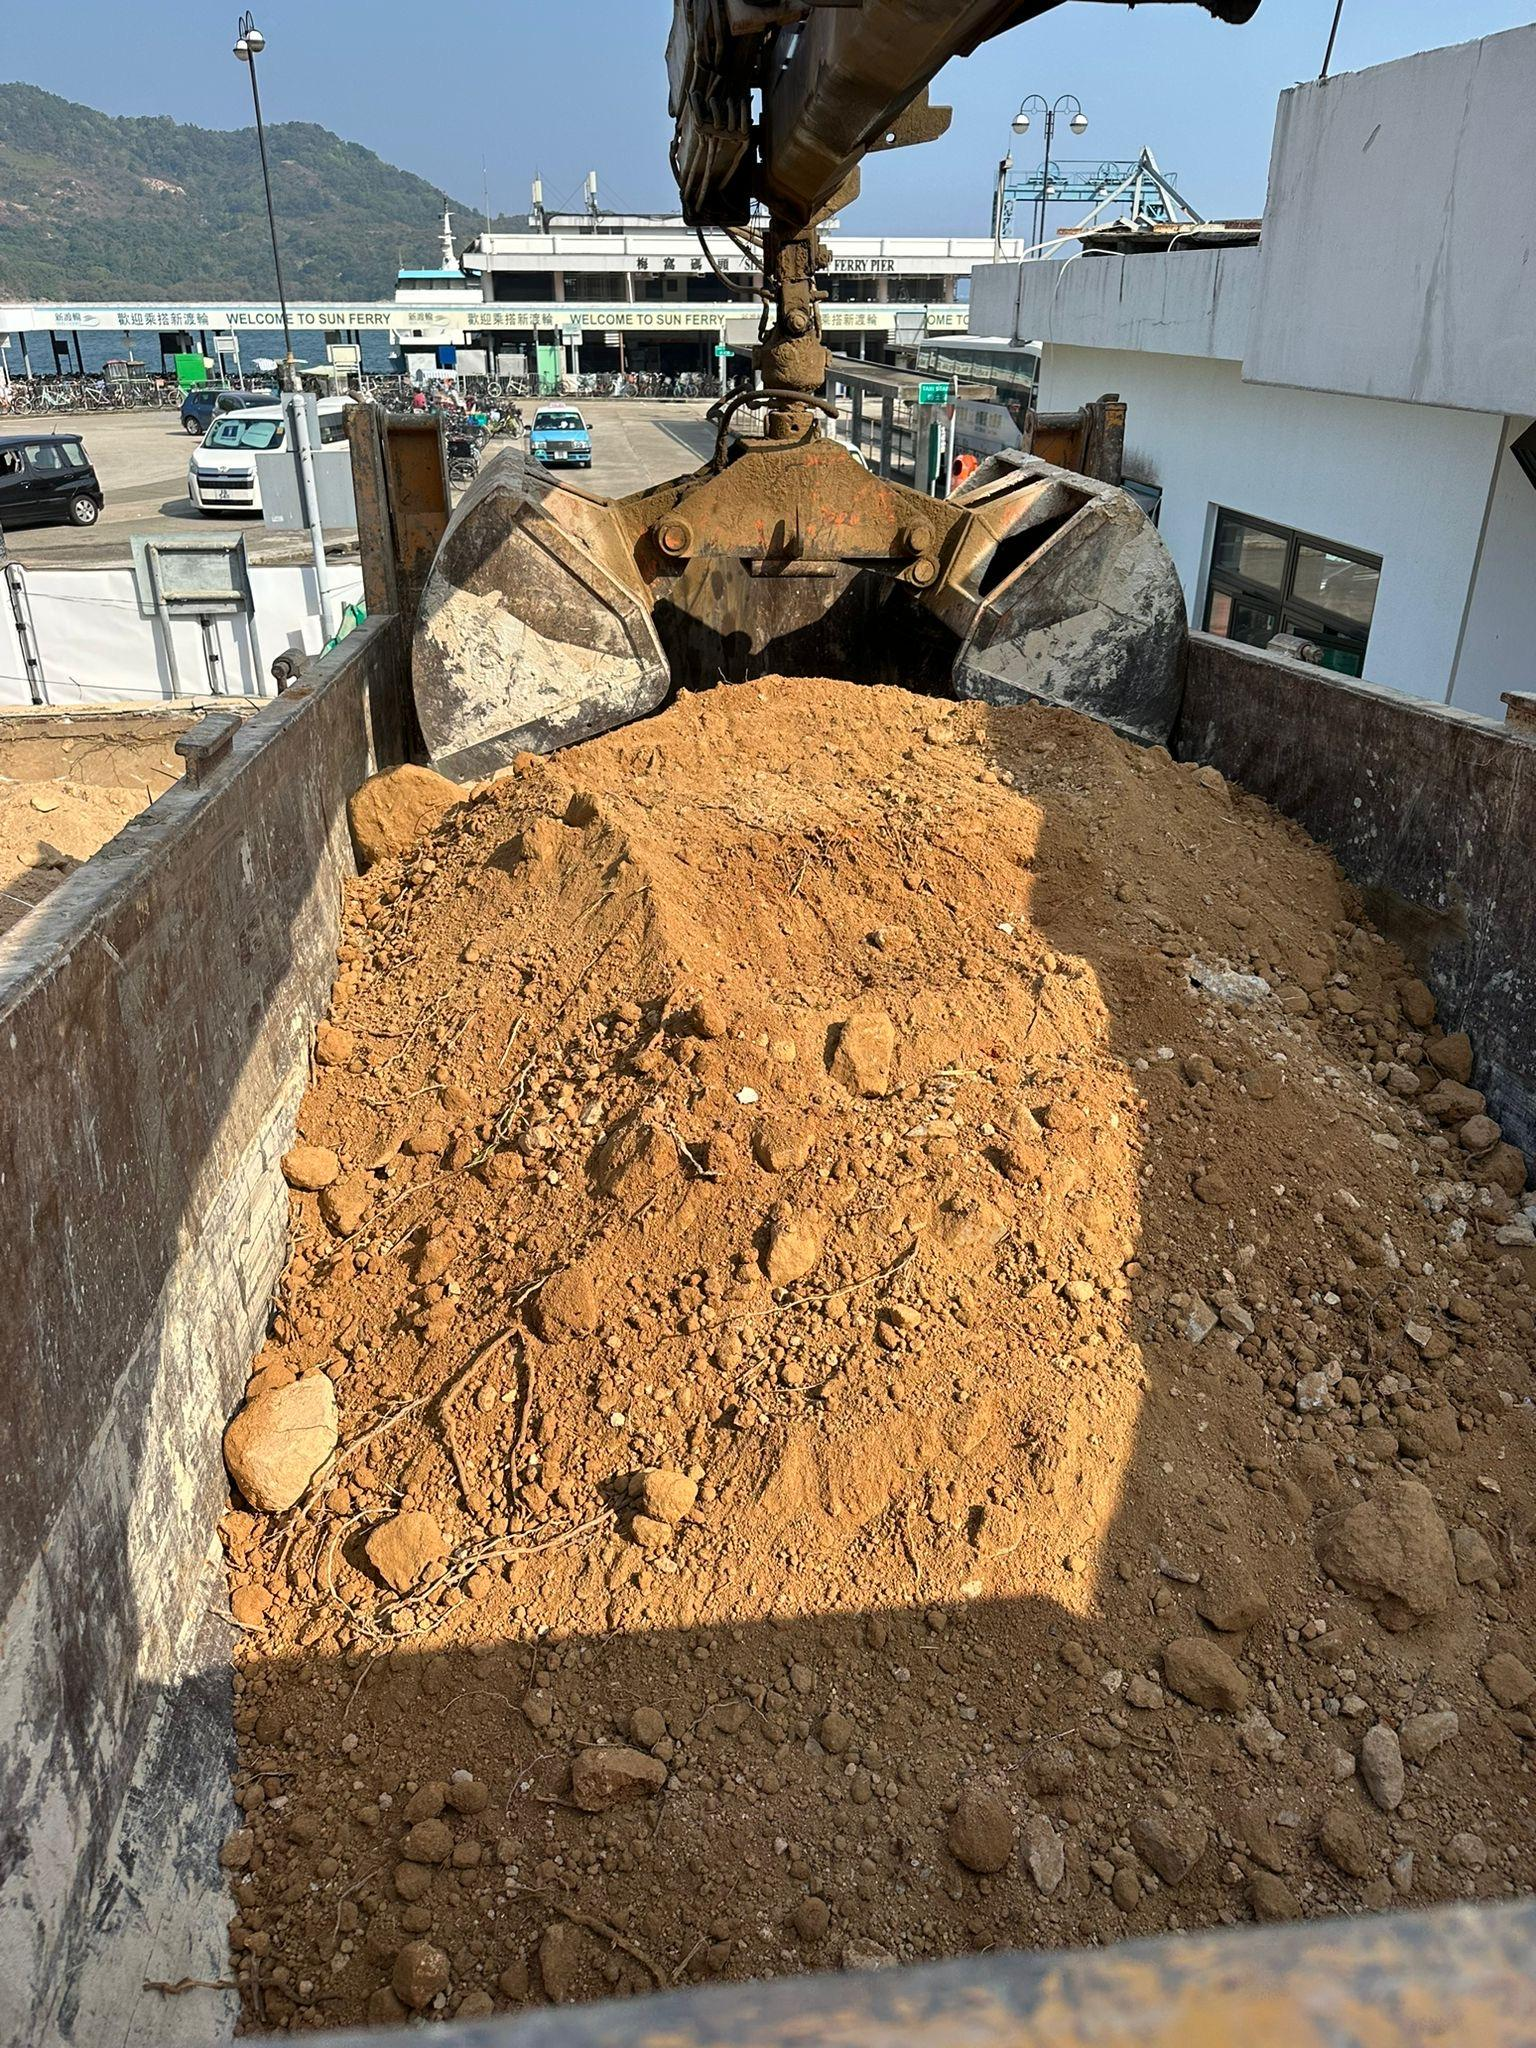dry: (240, 684, 1536, 2000)
